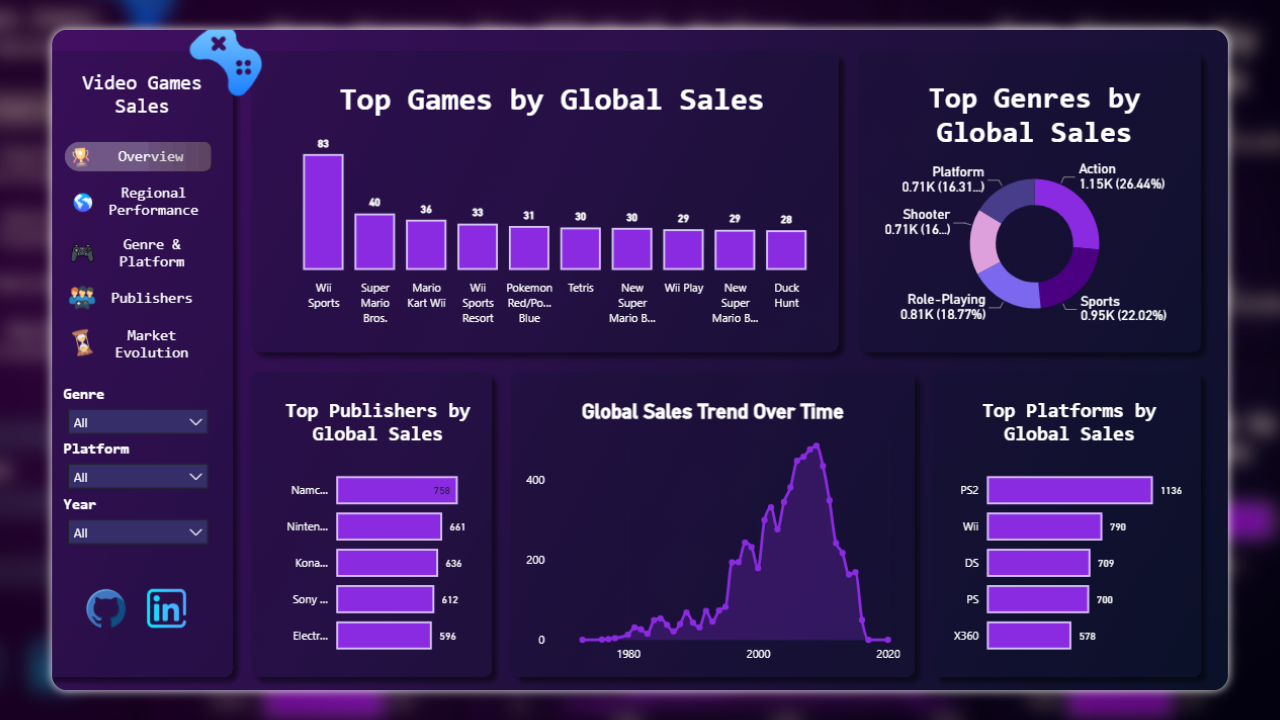

What the dashboard file says about the page in this screenshot:
{"tool":"powerbi","page":{"name":"Overview","canvas":[1280,720],"ordinal":0},"visuals":[{"type":"donutChart","title":"Top Genres by Global Sales","fields":{"Category":["vgsales.Genre"],"Y":["vgsales.Total Global Sales"]},"box":[886.1,43.6,361.2,296.8],"z":0},{"type":"clusteredColumnChart","title":"Top Games by Global Sales","fields":{"Category":["vgsales.Name"],"Y":["vgsales.Total Global Sales"]},"box":[233.5,43.6,625.3,295.7],"z":1000},{"type":"clusteredBarChart","title":"Top Publishers by Global Sales","fields":{"Category":["vgsales.Publisher"],"Y":["vgsales.No. of Games"]},"box":[233.6,386.7,249.4,317.2],"z":2000},{"type":"clusteredBarChart","title":"Top Platforms by Global Sales","fields":{"Category":["vgsales.Platform"],"Y":["vgsales.Total Global Sales"]},"box":[961.2,386.7,285.7,317.2],"z":3000},{"type":"shape","box":[10.3,25.8,188.4,94.2],"z":4000},{"type":"image","box":[11,109.1,54.2,64.5],"z":5000},{"type":"shape","box":[32.9,109.1,161.3,60.6],"z":6000},{"type":"shape","box":[5.9,109.1,188.4,61.9],"z":7000},{"type":"shape","box":[150.4,109.1,43.9,61.9],"z":8000},{"type":"shape","box":[136.4,109.1,44.7,63.3],"z":9000},{"type":"shape","box":[123.3,109.1,43.6,63.3],"z":10000},{"type":"shape","box":[109.1,109.1,44.7,63.3],"z":11000},{"type":"shape","box":[96,109.1,43.6,63.3],"z":12000},{"type":"lineChart","title":"Global Sales Trend Over Time","fields":{"Y":["vgsales.Total Global Sales"],"Category":["vgsales.Year"]},"box":[503.2,387.1,433.5,317.4],"z":13000},{"type":"image","box":[14.2,165.2,51.6,50.3],"z":14000},{"type":"shape","box":[33.5,149.7,165.2,78.7],"z":15000},{"type":"shape","box":[33.5,205.2,161.3,77.4],"z":16000},{"type":"shape","box":[33.5,262.2,161.5,61.1],"z":17000},{"type":"shape","box":[33.5,301.9,161.3,80],"z":18000},{"type":"image","box":[11.6,215.5,55.5,59.4],"z":19000},{"type":"image","box":[10.3,261.9,59.4,60.6],"z":20000},{"type":"image","box":[9,309.7,61.9,61.9],"z":21000},{"type":"slicer","title":"Genre","fields":{"Values":["vgsales.Genre"]},"box":[14.2,386.7,165.7,58.4],"z":22000},{"type":"slicer","title":"Platform","fields":{"Values":["vgsales.Platform"]},"box":[14.2,445.1,165.7,60],"z":23000},{"type":"slicer","title":"Year","fields":{"Values":["vgsales.Year"]},"box":[14.2,505.1,165.7,60],"z":24000},{"type":"image","box":[88.4,591.4,84,72],"z":25000},{"type":"image","box":[25.1,591.4,80.8,72],"z":26000},{"type":"actionButton","box":[16.8,165.2,165.2,50.3],"z":27000},{"type":"actionButton","box":[14.2,219.4,165.2,50.3],"z":28000},{"type":"actionButton","box":[12.9,267.1,165.2,50.3],"z":29000},{"type":"actionButton","box":[14.2,317.4,165.2,50.3],"z":30000}]}

Visuals, with their boxes in screenshot pixels (x1, y1, x2, y2), scaled from the page's 1280x720 canvas onto the 1280x720 screenshot:
"Top Genres by Global Sales" donutChart: bbox(886, 44, 1247, 340)
"Top Games by Global Sales" clusteredColumnChart: bbox(234, 44, 859, 339)
"Top Publishers by Global Sales" clusteredBarChart: bbox(234, 387, 483, 704)
"Top Platforms by Global Sales" clusteredBarChart: bbox(961, 387, 1247, 704)
shape: bbox(10, 26, 199, 120)
image: bbox(11, 109, 65, 174)
shape: bbox(33, 109, 194, 170)
shape: bbox(6, 109, 194, 171)
shape: bbox(150, 109, 194, 171)
shape: bbox(136, 109, 181, 172)
shape: bbox(123, 109, 167, 172)
shape: bbox(109, 109, 154, 172)
shape: bbox(96, 109, 140, 172)
"Global Sales Trend Over Time" lineChart: bbox(503, 387, 937, 704)
image: bbox(14, 165, 66, 216)
shape: bbox(34, 150, 199, 228)
shape: bbox(34, 205, 195, 283)
shape: bbox(34, 262, 195, 323)
shape: bbox(34, 302, 195, 382)
image: bbox(12, 216, 67, 275)
image: bbox(10, 262, 70, 322)
image: bbox(9, 310, 71, 372)
"Genre" slicer: bbox(14, 387, 180, 445)
"Platform" slicer: bbox(14, 445, 180, 505)
"Year" slicer: bbox(14, 505, 180, 565)
image: bbox(88, 591, 172, 663)
image: bbox(25, 591, 106, 663)
actionButton: bbox(17, 165, 182, 216)
actionButton: bbox(14, 219, 179, 270)
actionButton: bbox(13, 267, 178, 317)
actionButton: bbox(14, 317, 179, 368)
